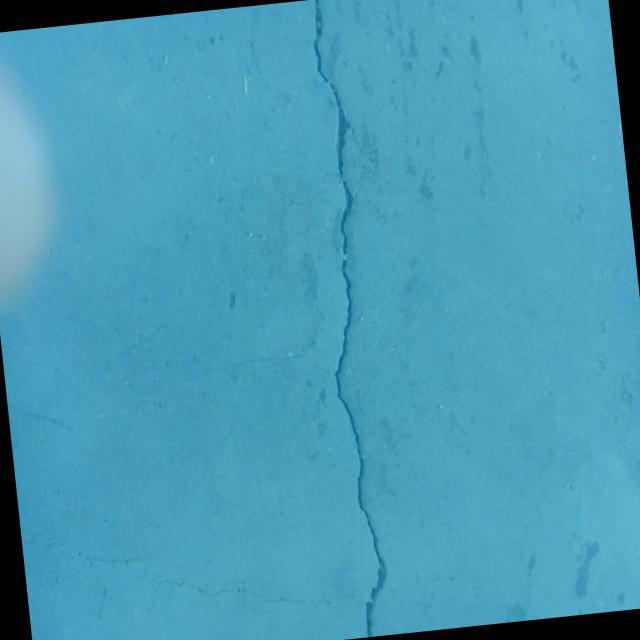crack: (294, 0, 413, 637), (152, 554, 332, 623), (22, 526, 148, 577)
